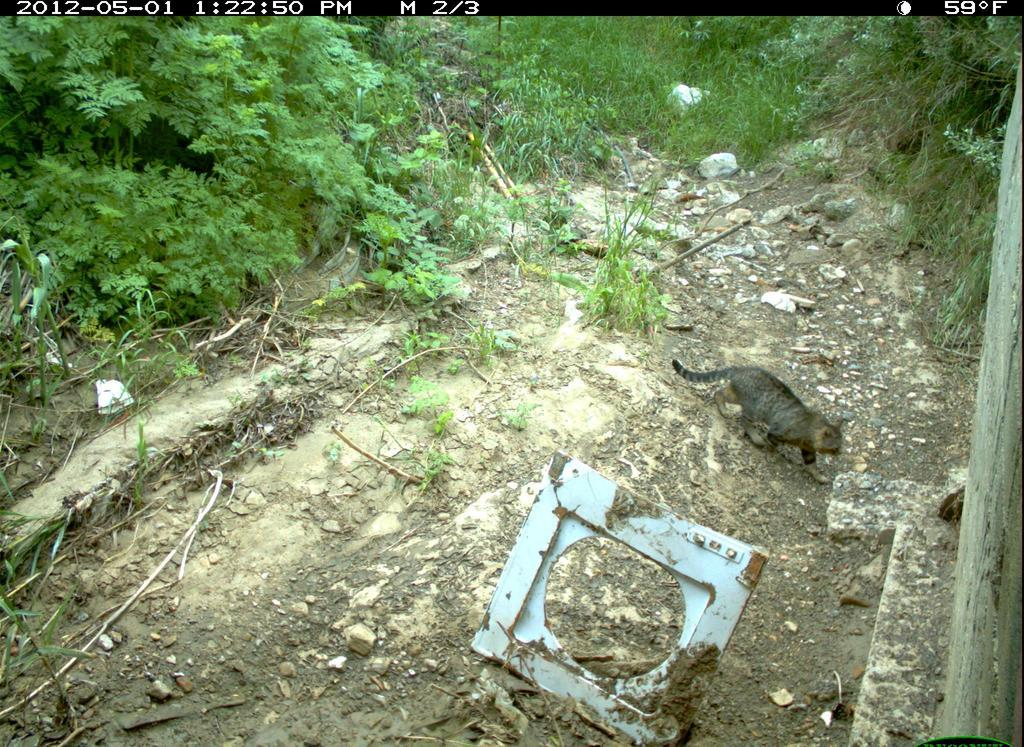cat: (665, 345, 857, 491)
